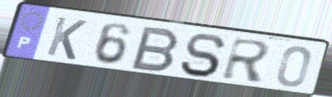0: (274, 45, 313, 89)
6: (92, 22, 132, 67)
B: (128, 25, 182, 74)
K: (43, 15, 89, 62)
R: (219, 36, 274, 84)
S: (177, 32, 229, 79)
